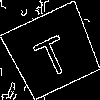T: (27, 25, 75, 80)
